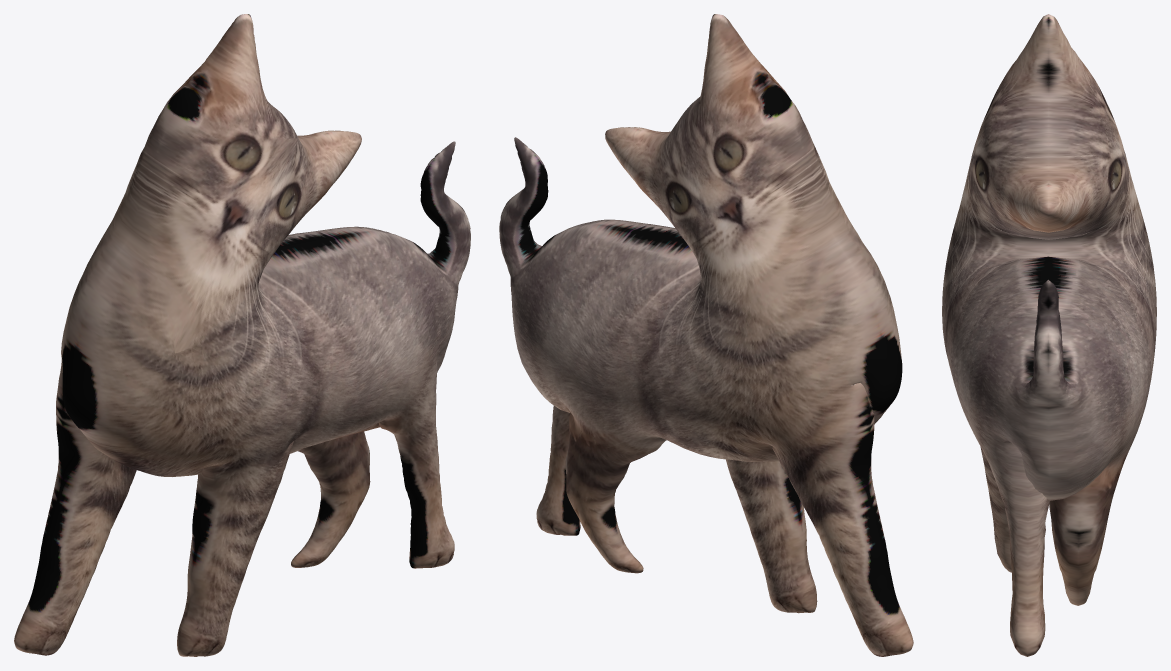
File: asset.glb
The picture shows the model from 3 angles, left to right: view 1: azimuth 30°, elevation 25°; view 2: azimuth 150°, elevation 25°; view 3: azimuth 270°, elevation 25°; orthographic projection. The views are drawn at different scales.
Bounding box in the file's own units: 5.12 × 6.86 × 2.3.
Materials: 1 (1 with a texture image).
